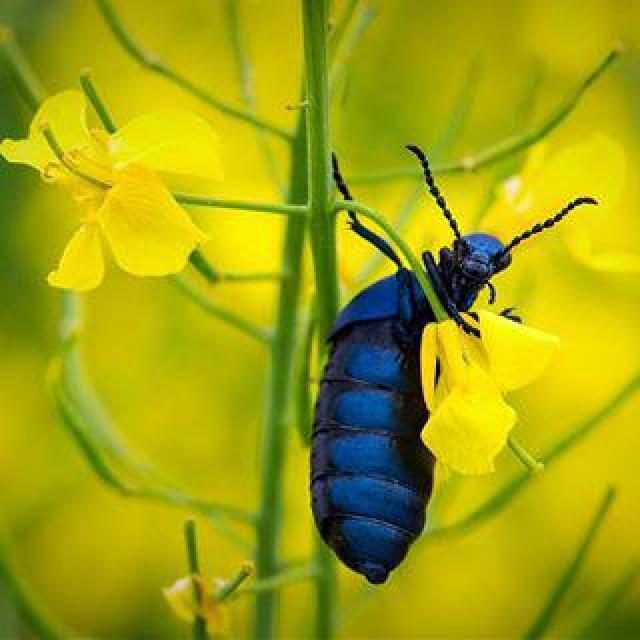BlisterBeetle-Adult-: (296, 123, 610, 592)
